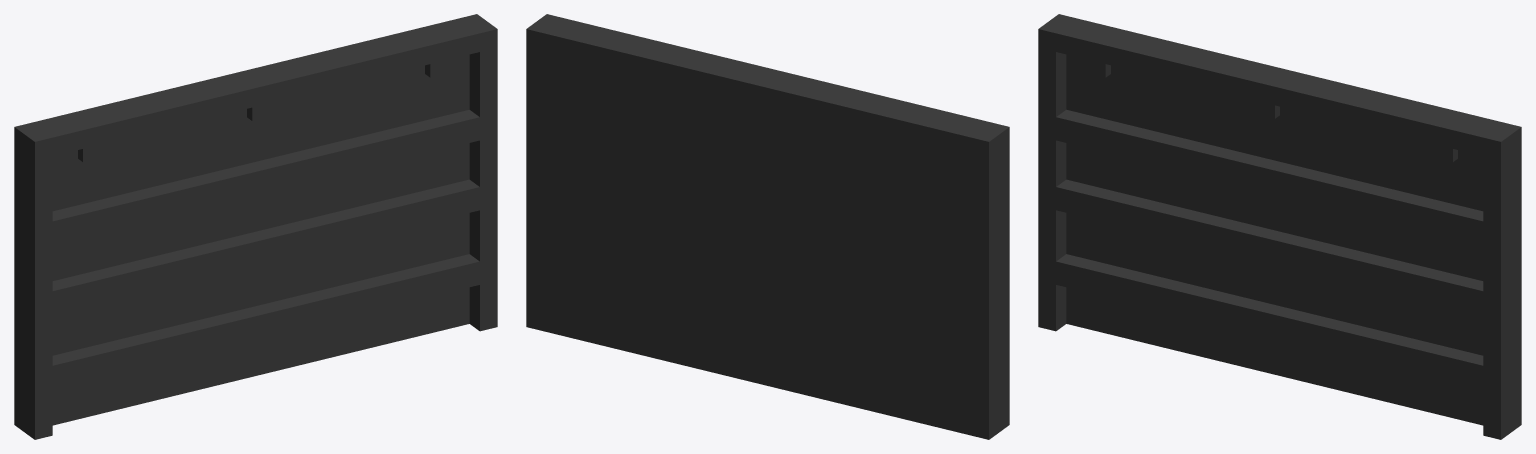
File: c70_right_face.obj
The picture shows the model from 3 angles, left to right: view 1: azimuth 30°, elevation 25°; view 2: azimuth 150°, elevation 25°; view 3: azimuth 330°, elevation 25°; orthographic projection.
Parts seen in each view (by area): view 1: cube; view 2: cube; view 3: cube.
Boxes of the visible parts, box(x1,y1,x2,y2) form: cube: box(14, 14, 497, 439); cube: box(526, 14, 1009, 439); cube: box(1038, 14, 1521, 439).
Size of the model in its own units: 3.25 by 2 by 0.25.
